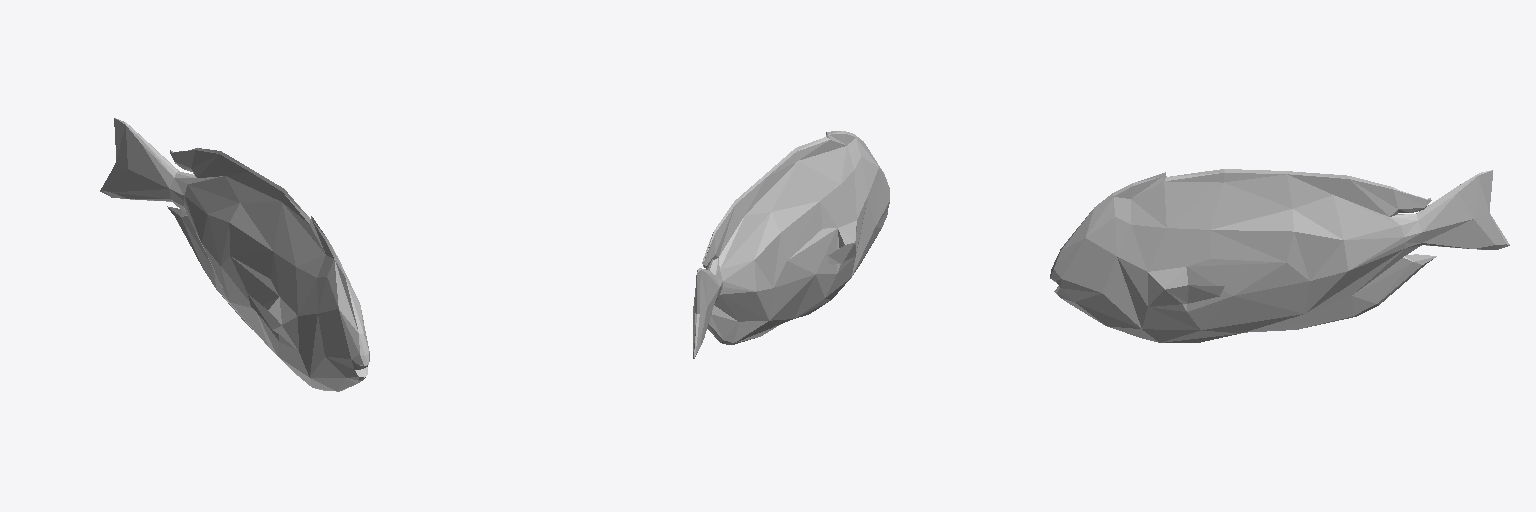
The model's file is Dory_Low.obj.
3 renders of one model, left to right at view 1: azimuth 30°, elevation 25°; view 2: azimuth 150°, elevation 25°; view 3: azimuth 270°, elevation 25°, orthographic.
Visible parts, largest first — view 1: Dory_DoryMesh.002; view 2: Dory_DoryMesh.002; view 3: Dory_DoryMesh.002.
Boxes of the visible parts, x1=… form: Dory_DoryMesh.002: x1=100, y1=118, x2=369, y2=391; Dory_DoryMesh.002: x1=693, y1=131, x2=889, y2=358; Dory_DoryMesh.002: x1=1050, y1=169, x2=1509, y2=342.
Bounding box in the file's own units: 0.1474 × 0.3014 × 0.7204.